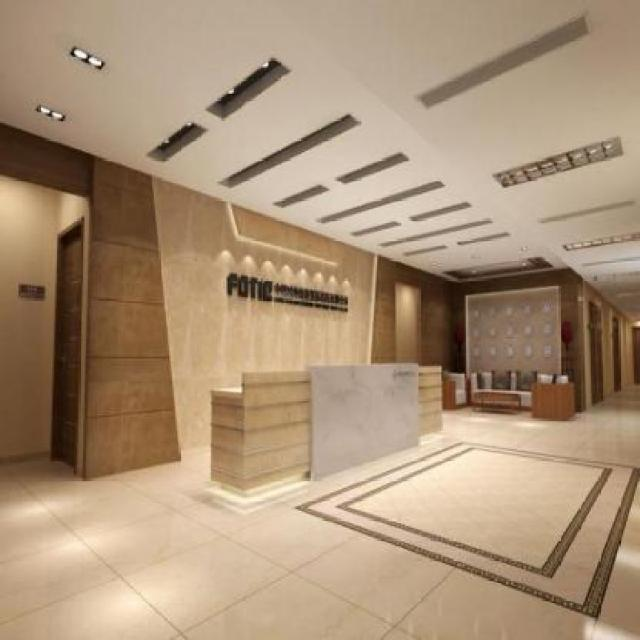frontdesk: (197, 354, 449, 508)
